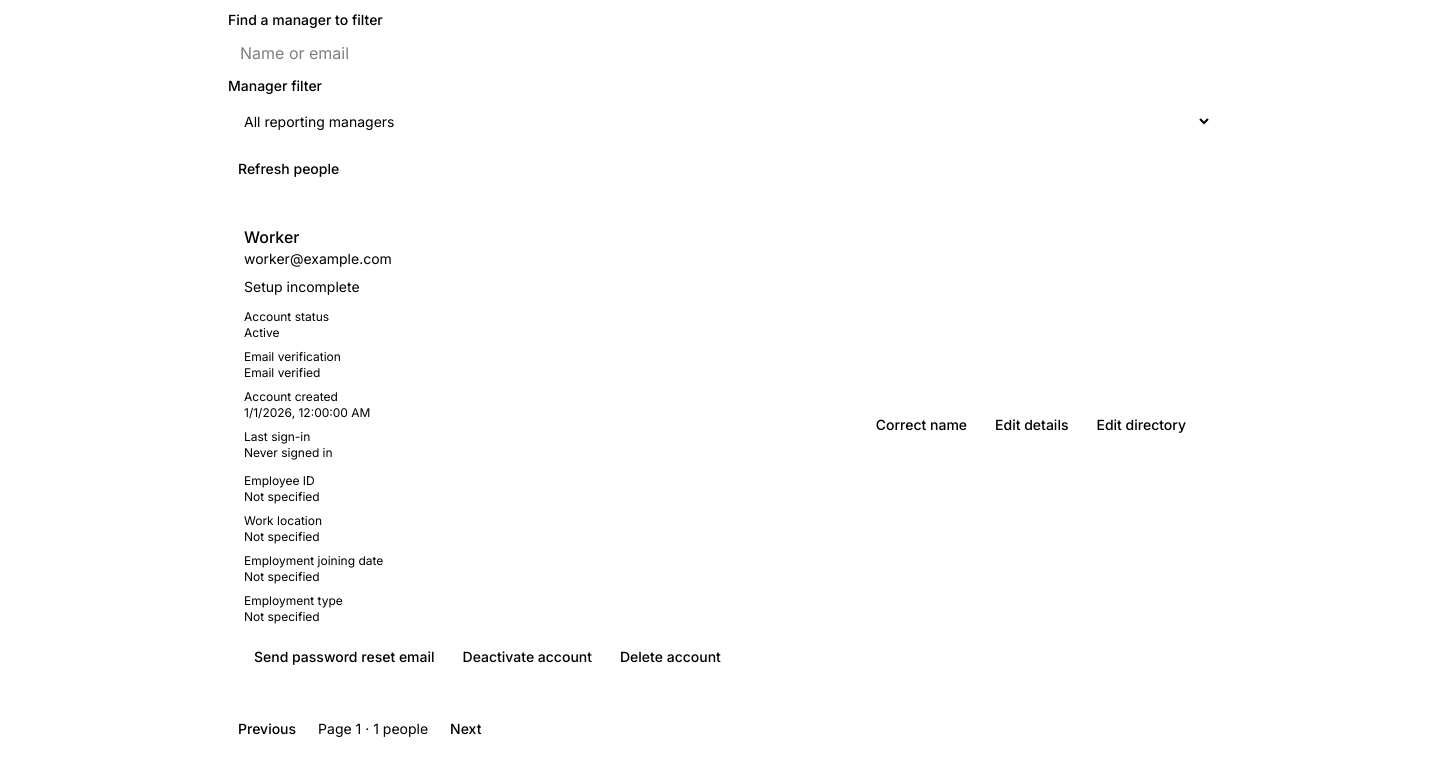
Scenario: submits reset with a UUID and reports queued acceptance without claiming delivery
(page scrolled)
Click the button "Send password reset email" at {"x": 344, "y": 657}, box [244, 641, 445, 673]
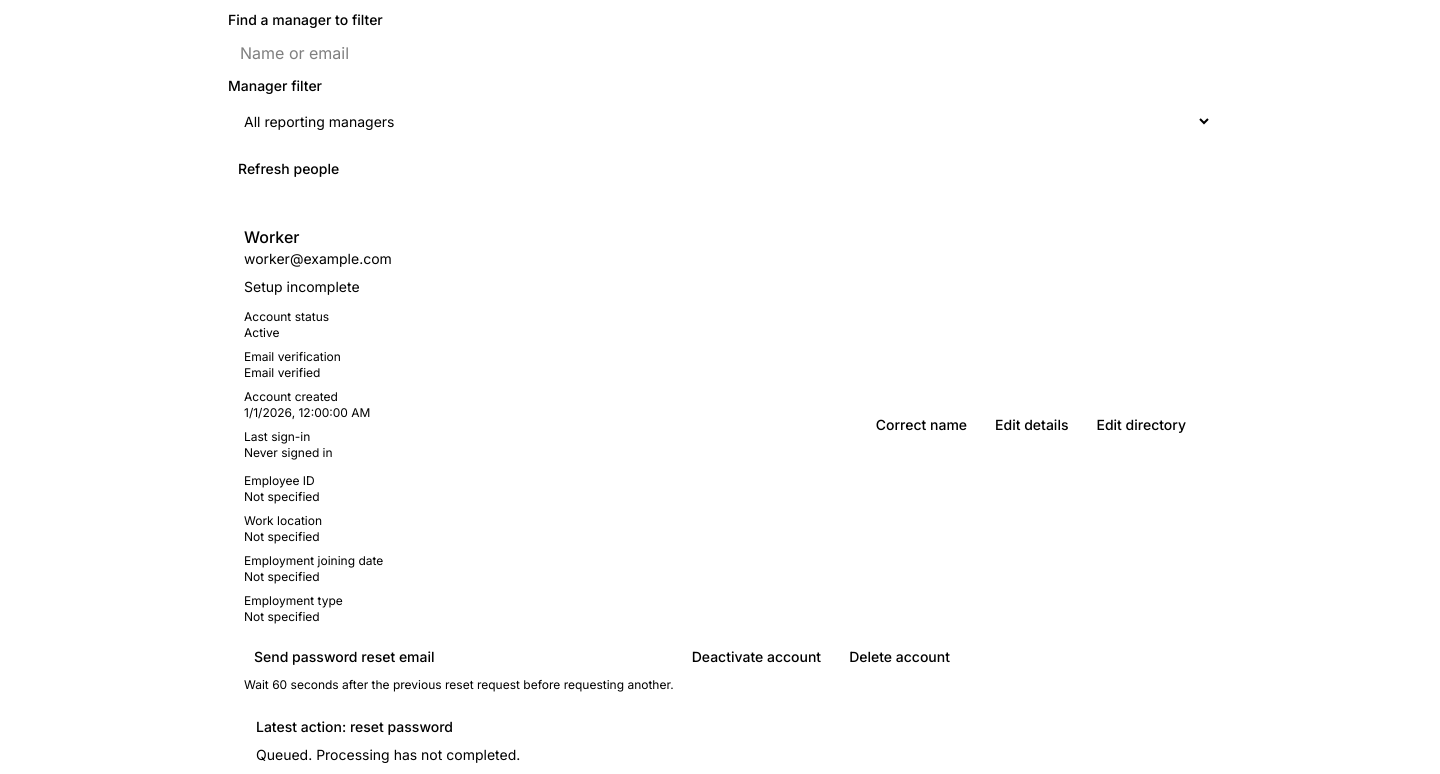
Expected: the text "Queued. Processing has not completed." is shown, [256, 746, 520, 763]
